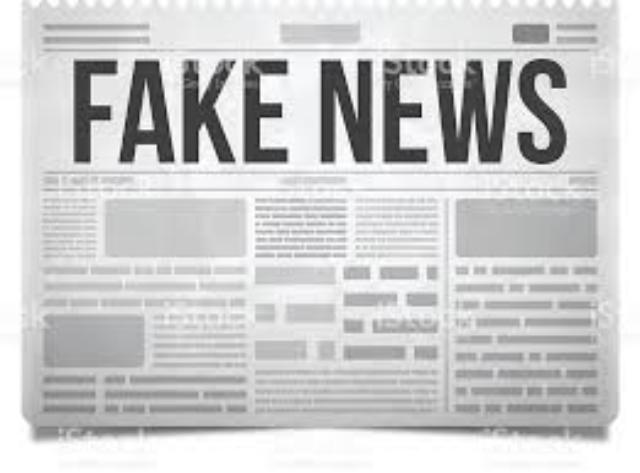cardboard paper: (20, 0, 619, 442)
